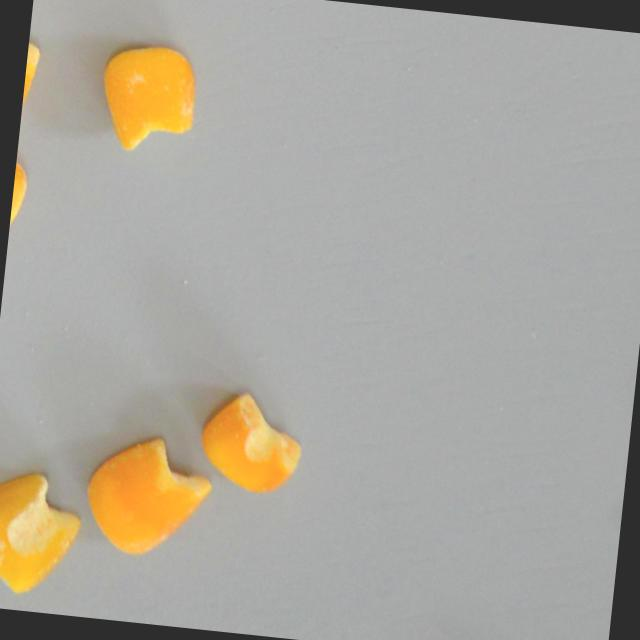pelicula: (78, 429, 215, 561), (92, 39, 200, 158), (194, 387, 306, 495), (0, 466, 83, 601), (6, 142, 30, 247), (16, 43, 38, 152)
